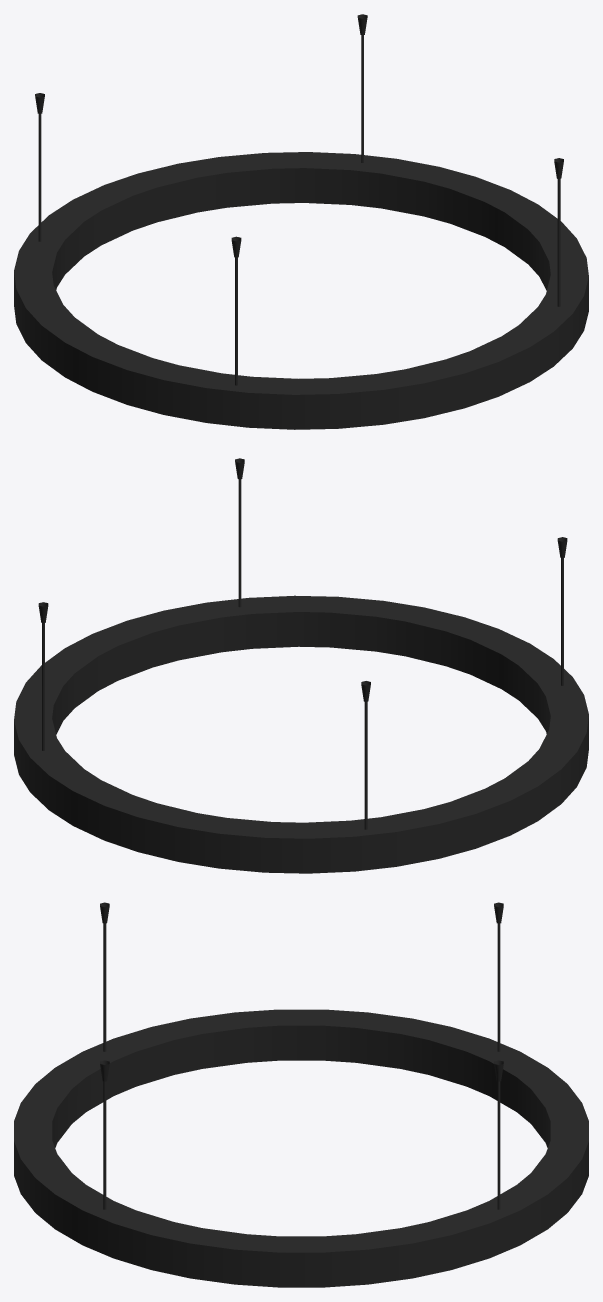
Rendered from Ceiling lamp 2.fbx.
The picture shows the model from 3 angles, top to bottom: view 1: azimuth 30°, elevation 25°; view 2: azimuth 150°, elevation 25°; view 3: azimuth 270°, elevation 25°; orthographic projection.
Parts seen in each view (by area): view 1: Ceiling lamp 2; view 2: Ceiling lamp 2; view 3: Ceiling lamp 2.
Boxes of the visible parts, x1,y1,x2,y2 form: Ceiling lamp 2: (14,14,588,429); Ceiling lamp 2: (14,458,588,873); Ceiling lamp 2: (14,902,588,1287).
Bounding box in the file's own units: 114 × 39.61 × 114.
Materials: 2 (1 with a texture image).
